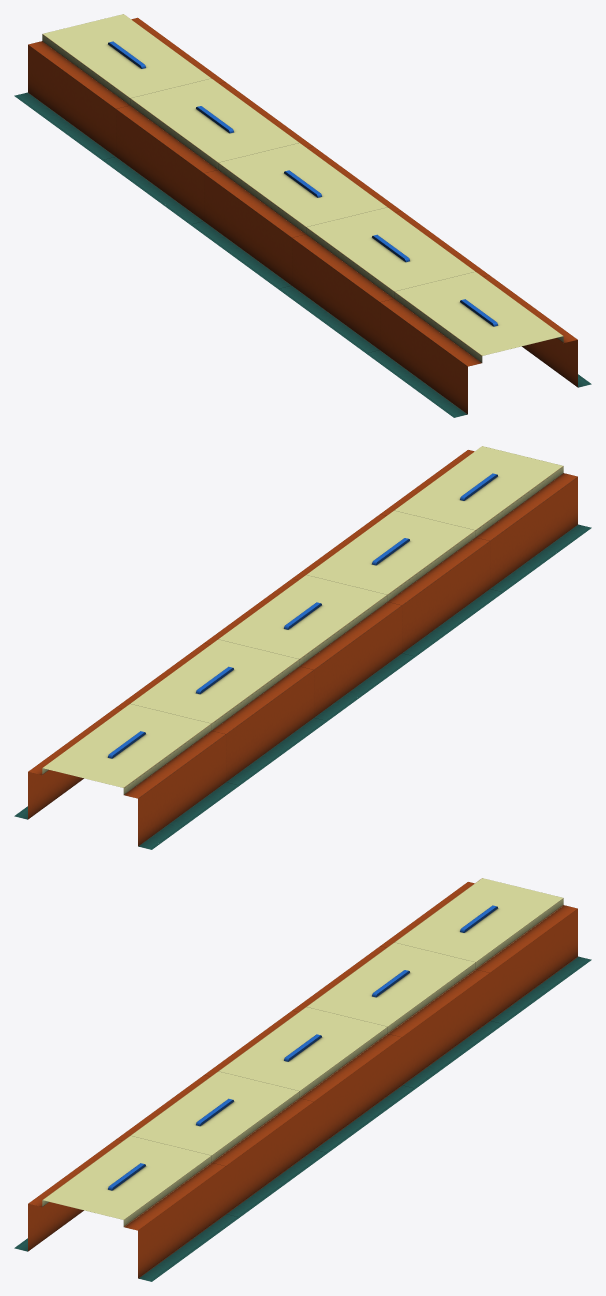
File: sc_lvl1_floortile_18.FBX
The picture shows the model from 3 angles, top to bottom: view 1: azimuth 30°, elevation 25°; view 2: azimuth 150°, elevation 25°; view 3: azimuth 330°, elevation 25°; orthographic projection.
Parts seen in each view (by area): view 1: sc_lvl1_floortile_18; view 2: sc_lvl1_floortile_18; view 3: sc_lvl1_floortile_18.
Boxes of the visible parts, bbox=[...] form: sc_lvl1_floortile_18: bbox=[14, 14, 591, 417]; sc_lvl1_floortile_18: bbox=[14, 446, 591, 849]; sc_lvl1_floortile_18: bbox=[14, 878, 591, 1281].
Size of the model in its own units: 18.1 by 7.23 by 100.
